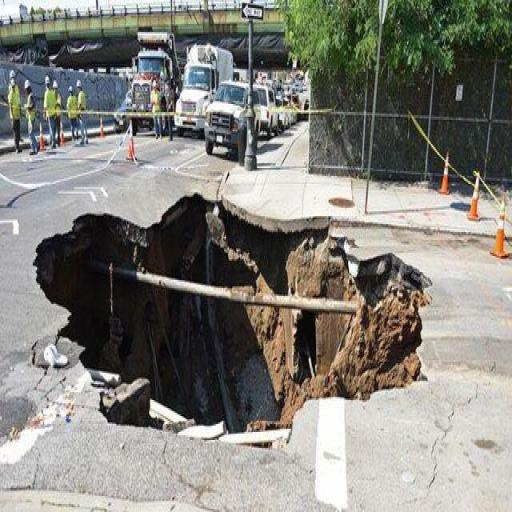Concentric_Crack: (34, 186, 431, 443)
